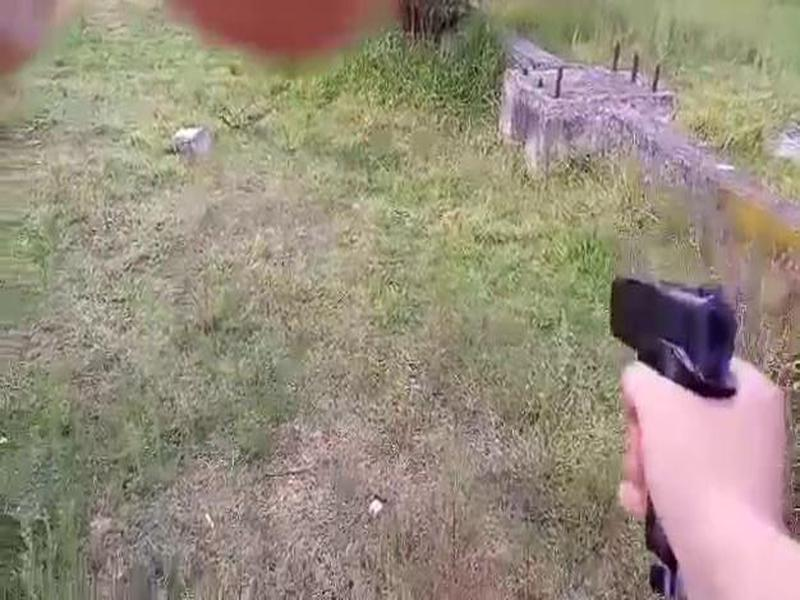Pistola: (577, 260, 766, 462)
